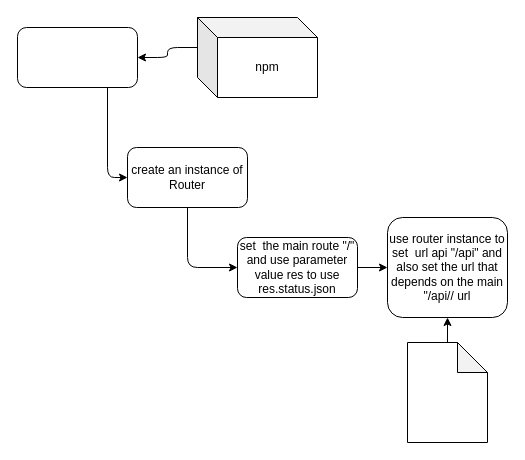
This 525x460 diagram has some shape labels left out. Each missing label, with the centre of its shape:
import npm & custom modules: point 77,57
the api con from routes/photo.routes.js: point 447,392
